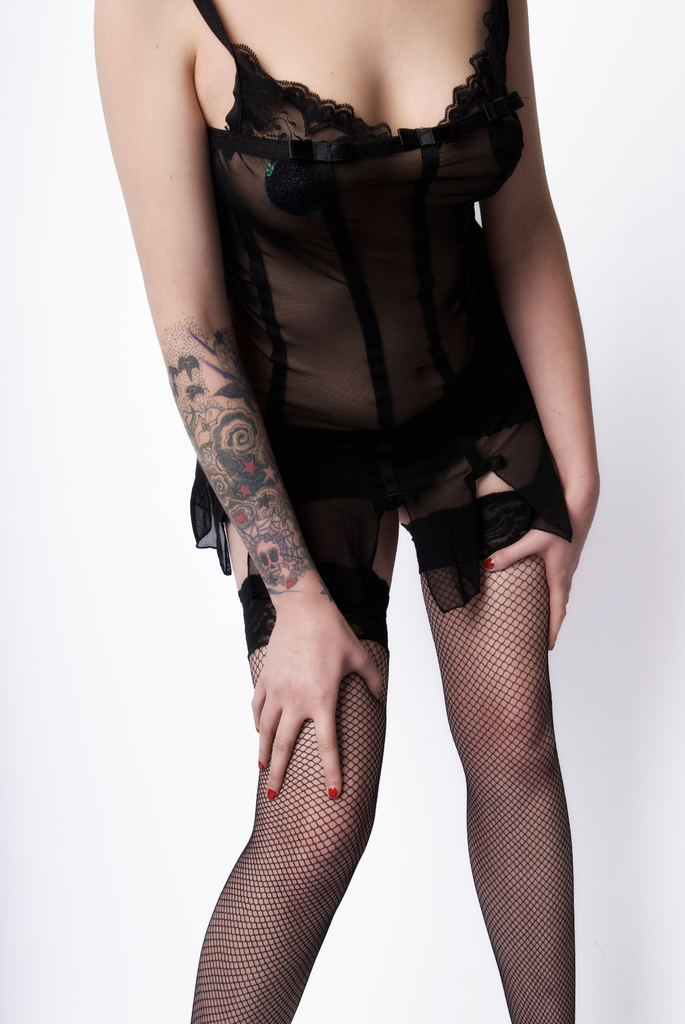Person: (93, 0, 599, 1023)
